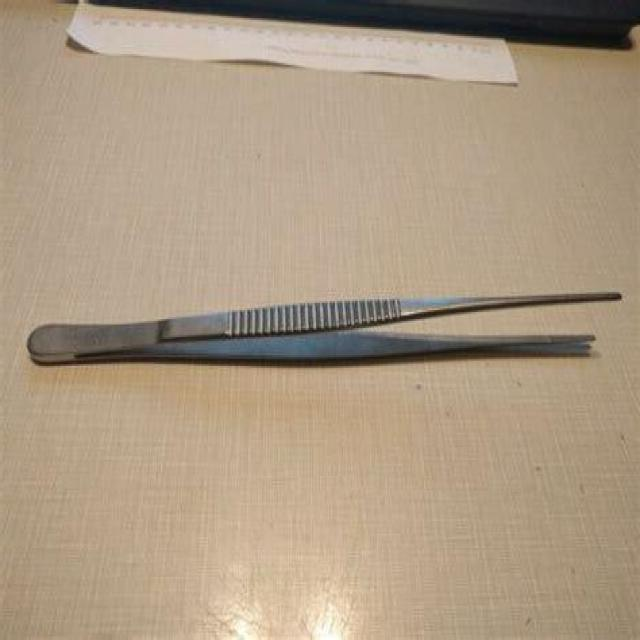Forceps: (22, 286, 622, 372)
